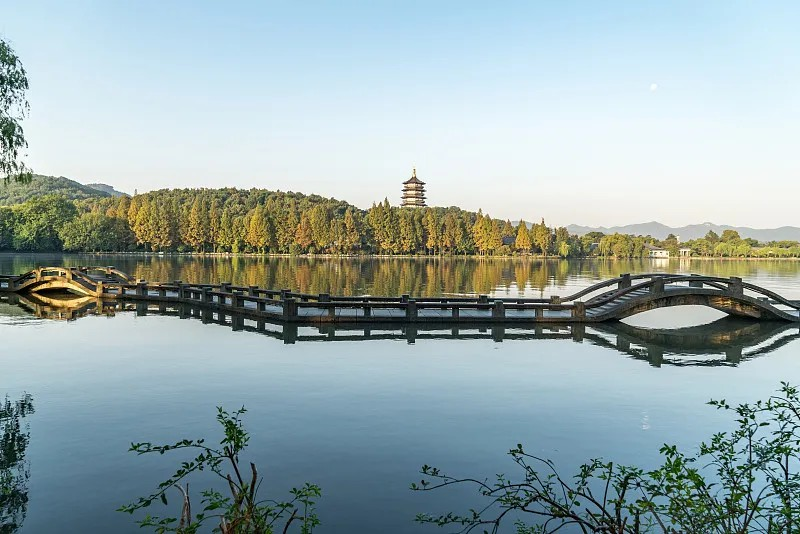Leifeng: (400, 167, 428, 211)
